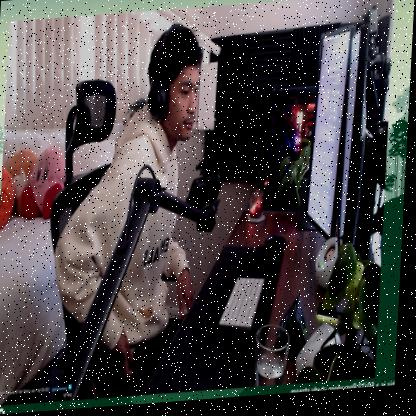streamer: (50, 22, 208, 402)
